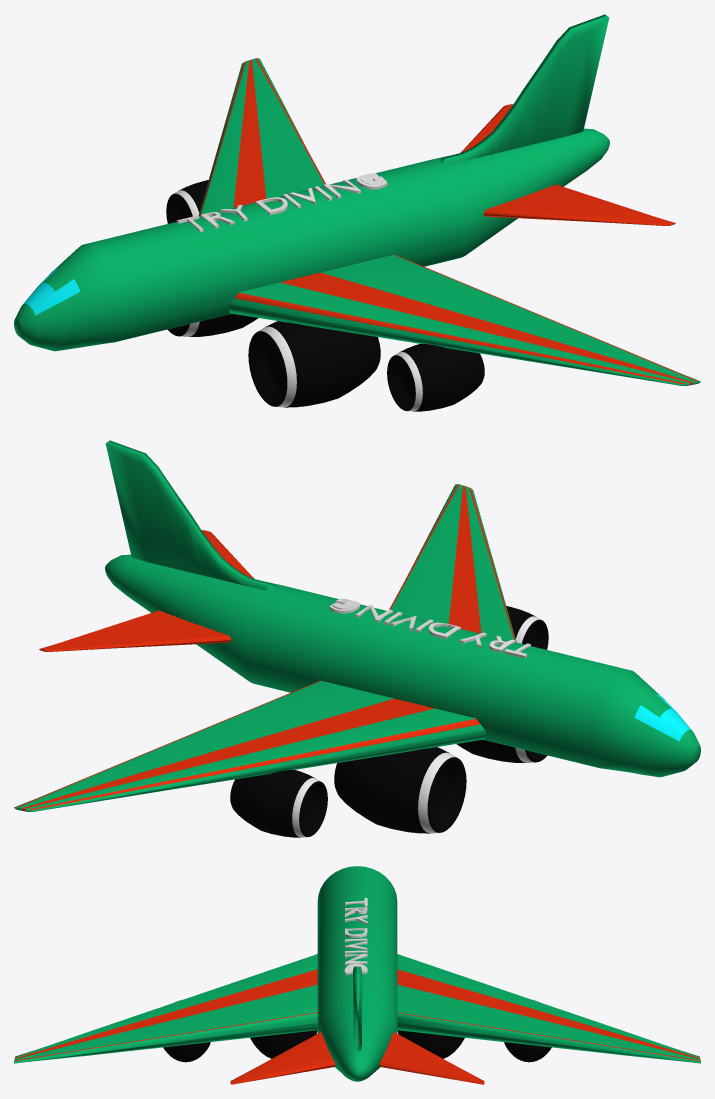
The model's file is aeroplane 1.fbx.
The picture shows the model from 3 angles, top to bottom: view 1: azimuth 30°, elevation 25°; view 2: azimuth 150°, elevation 25°; view 3: azimuth 270°, elevation 25°; orthographic projection. The views are drawn at different scales.
Parts seen in each view (by area): view 1: Cylinder, Cube.001, Cube.003, Cylinder.001, Cube, Cylinder.002, Cube.002, Text.001, Cylinder.004, Cylinder.003; view 2: Cylinder, Cube.003, Cube.001, Cylinder.004, Cube, Cylinder.003, Cube.004, Text.001, Cylinder.001, Cylinder.002; view 3: Cylinder, Cube.001, Cube.003, Cube.002, Cube.004, Text.001, Cylinder.001, Cylinder.004, Cube, Cylinder.002, Cylinder.003.
Boxes of the visible parts, left/top/right/bottom form: Cylinder: left=14, top=128, right=609, bottom=351; Cube.001: left=228, top=254, right=700, bottom=385; Cube.003: left=198, top=58, right=325, bottom=215; Cylinder.001: left=248, top=321, right=380, bottom=407; Cube: left=440, top=14, right=609, bottom=164; Cylinder.002: left=387, top=344, right=484, bottom=411; Cube.002: left=483, top=184, right=675, bottom=225; Text.001: left=176, top=173, right=387, bottom=232; Cylinder.004: left=167, top=313, right=258, bottom=336; Cylinder.003: left=166, top=180, right=208, bottom=223; Cylinder: left=105, top=554, right=700, bottom=777; Cube.003: left=14, top=680, right=486, bottom=811; Cube.001: left=389, top=484, right=516, bottom=642; Cylinder.004: left=334, top=747, right=466, bottom=833; Cube: left=105, top=440, right=274, bottom=590; Cylinder.003: left=230, top=770, right=327, bottom=837; Cube.004: left=39, top=610, right=231, bottom=651; Text.001: left=329, top=598, right=530, bottom=658; Cylinder.001: left=456, top=739, right=547, bottom=762; Cylinder.002: left=506, top=606, right=548, bottom=649; Cylinder: left=317, top=866, right=397, bottom=1081; Cube.001: left=14, top=954, right=317, bottom=1063; Cube.003: left=397, top=954, right=700, bottom=1063; Cube.002: left=230, top=1032, right=335, bottom=1084; Cube.004: left=379, top=1032, right=484, bottom=1084; Text.001: left=344, top=897, right=367, bottom=975; Cylinder.001: left=250, top=1030, right=317, bottom=1058; Cylinder.004: left=397, top=1030, right=464, bottom=1058; Cube: left=353, top=966, right=361, bottom=1050; Cylinder.002: left=163, top=999, right=210, bottom=1062; Cylinder.003: left=504, top=999, right=551, bottom=1062.
Size of the model in its own units: 2840 by 1220 by 3684.
